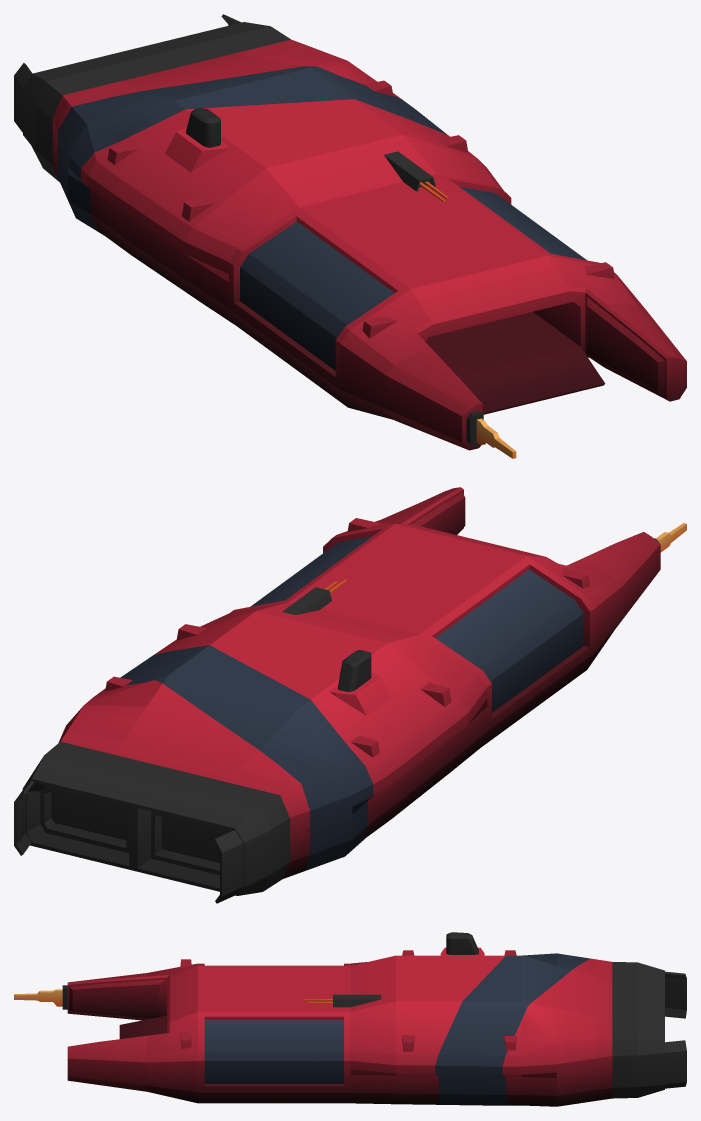
The model's file is carrier.glb.
3 renders of one model, top to bottom at view 1: azimuth 30°, elevation 25°; view 2: azimuth 150°, elevation 25°; view 3: azimuth 270°, elevation 25°, orthographic. The views are drawn at different scales.
Parts seen in each view (by area): view 1: Hull; view 2: Hull; view 3: Hull.
Boxes of the visible parts, left/top/right/bottom form: Hull: left=14, top=14, right=686, bottom=458; Hull: left=14, top=487, right=686, bottom=903; Hull: left=14, top=932, right=686, bottom=1106.
Size of what is drawn, in the model's own units: 36.21 by 15.88 by 99.03.
1 material, 1 textured.
